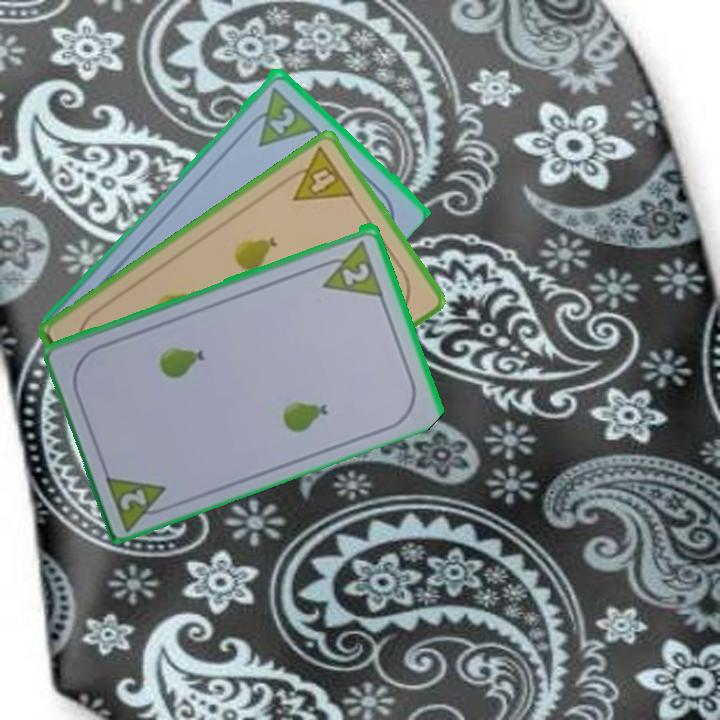2p: (266, 102, 298, 137), (338, 258, 373, 288), (116, 484, 150, 513)
4p: (278, 143, 357, 204)
